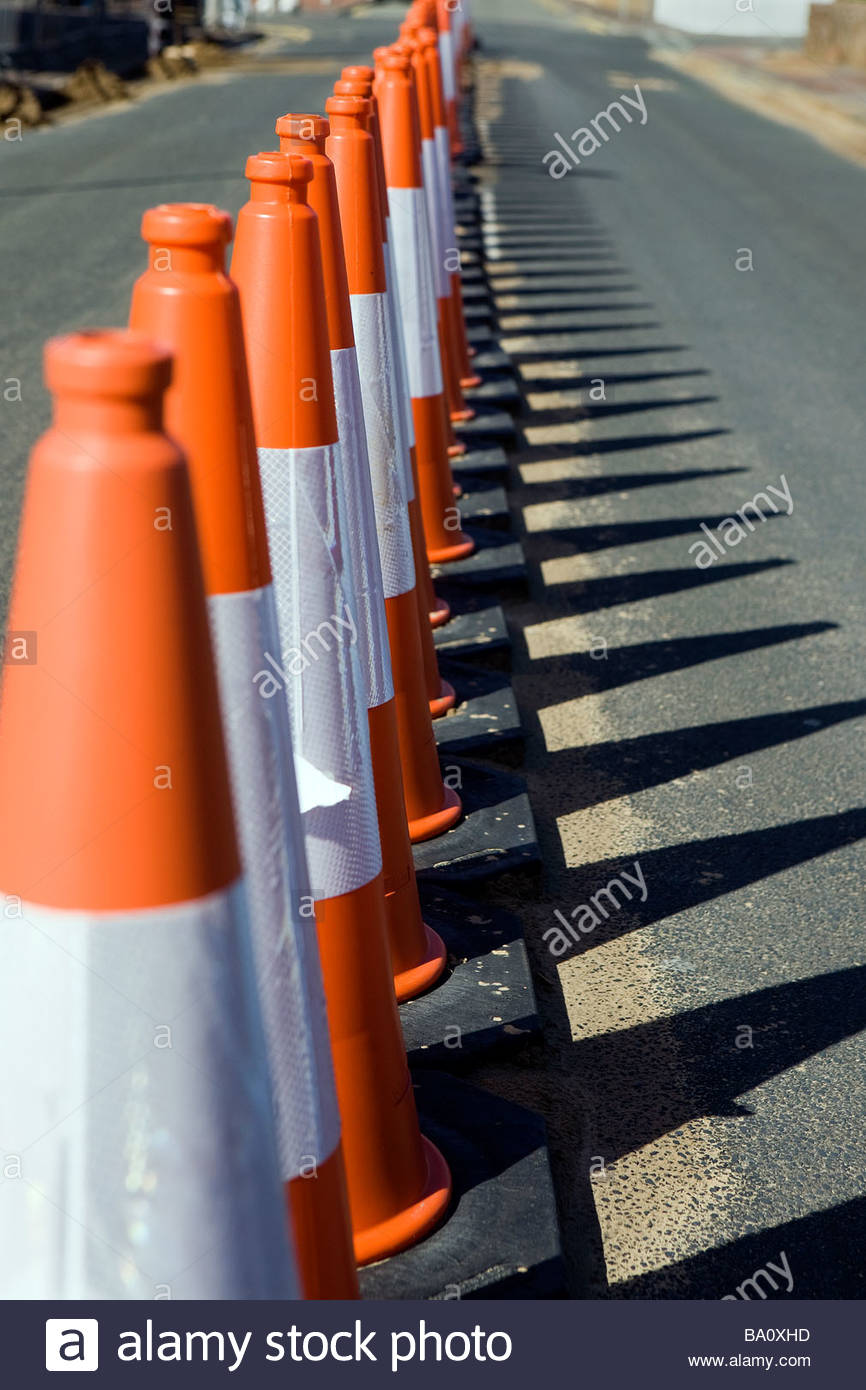cones: (1, 331, 306, 1297), (224, 110, 450, 907)
